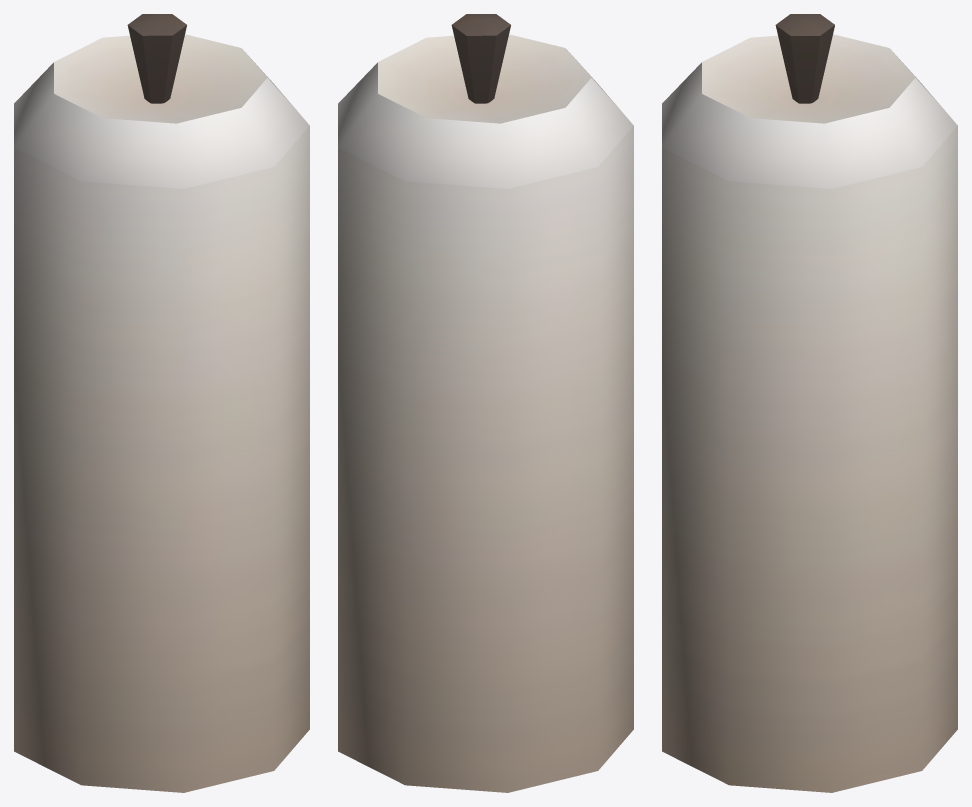
File: candle.glb
The picture shows the model from 3 angles, left to right: view 1: azimuth 30°, elevation 25°; view 2: azimuth 150°, elevation 25°; view 3: azimuth 270°, elevation 25°; orthographic projection.
Visible parts, largest first — view 1: candle; view 2: candle; view 3: candle.
Part boxes in pixels (x1,y1,x2,y2): candle: (14,14,309,792); candle: (338,14,633,792); candle: (662,14,957,792).
Bounding box in the file's own units: 0.3343 × 0.873 × 0.3293.
1 material, 1 textured.
